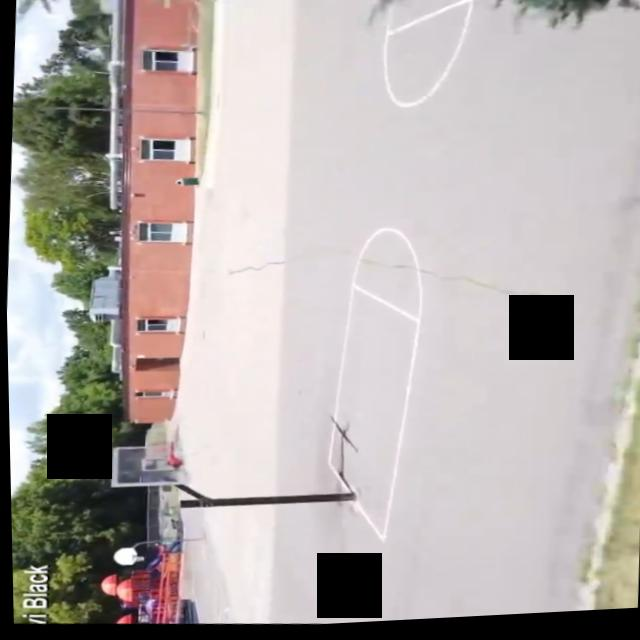Building: (71, 0, 212, 429)
Pole: (12, 96, 206, 126)
